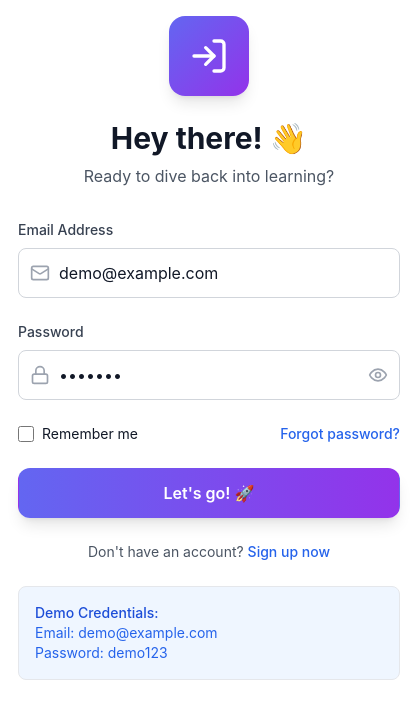
Test case: LoginForm › validates password minimum length
The image size is (419, 703).
Type "123" into the password field showing "demo123" at (209, 375), box [18, 350, 400, 400]
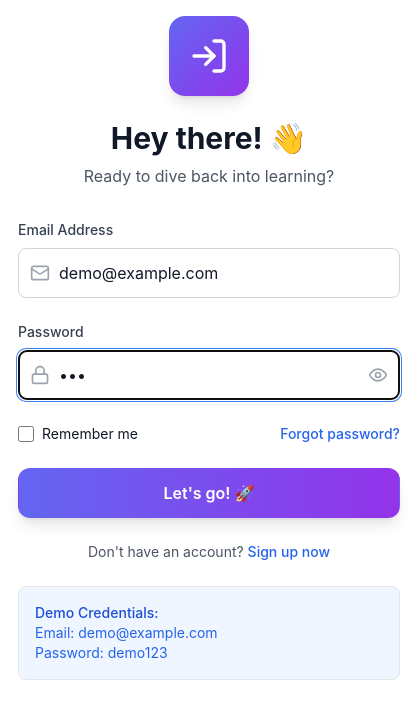
Click the button "Let's go! 🚀" at (209, 493), box [18, 468, 400, 518]
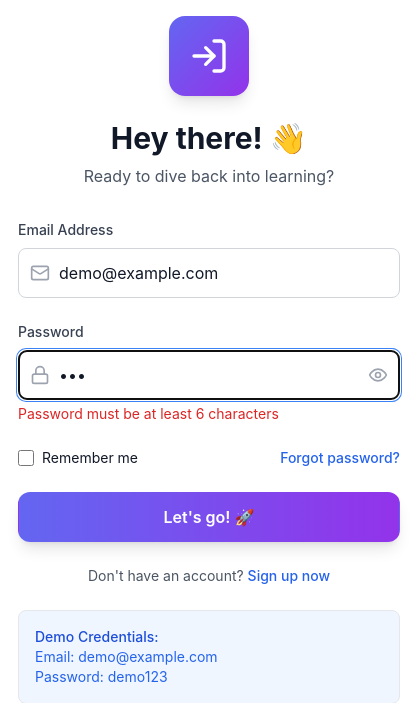
Expected: the text "Password must be at least 6 characters" is shown, [18, 405, 279, 422]
